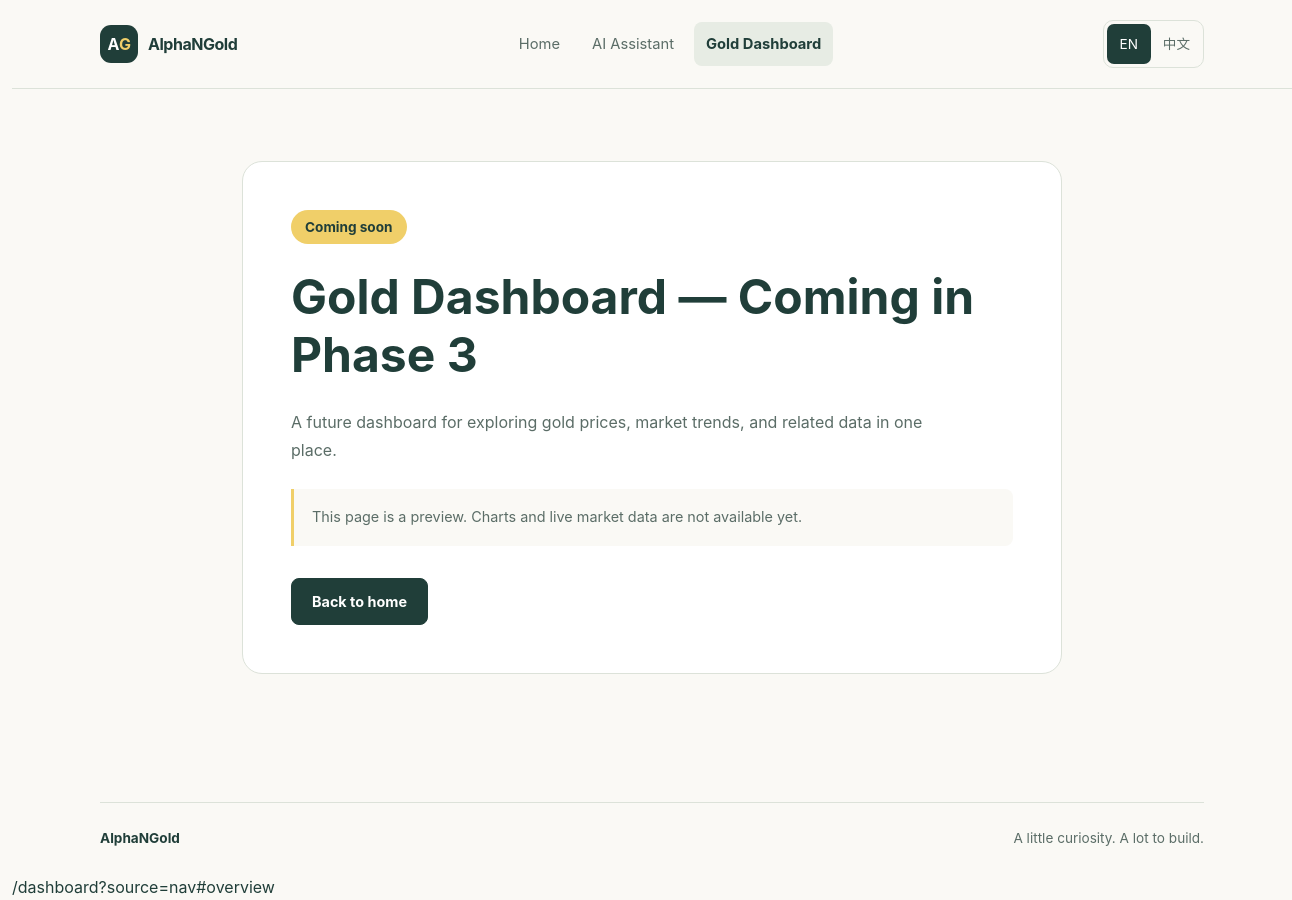
Test: App › translates /dashboard?source=nav#overview and keeps its route, query, and hash
Expected: the heading "Gold Dashboard — Coming in Phase 3" is shown, top-left (291, 268), bottom-right (1013, 384)
Step 1. Click the button with aria-label "简体中文" → click(1176, 44), box top-left (1153, 24), bottom-right (1200, 64)
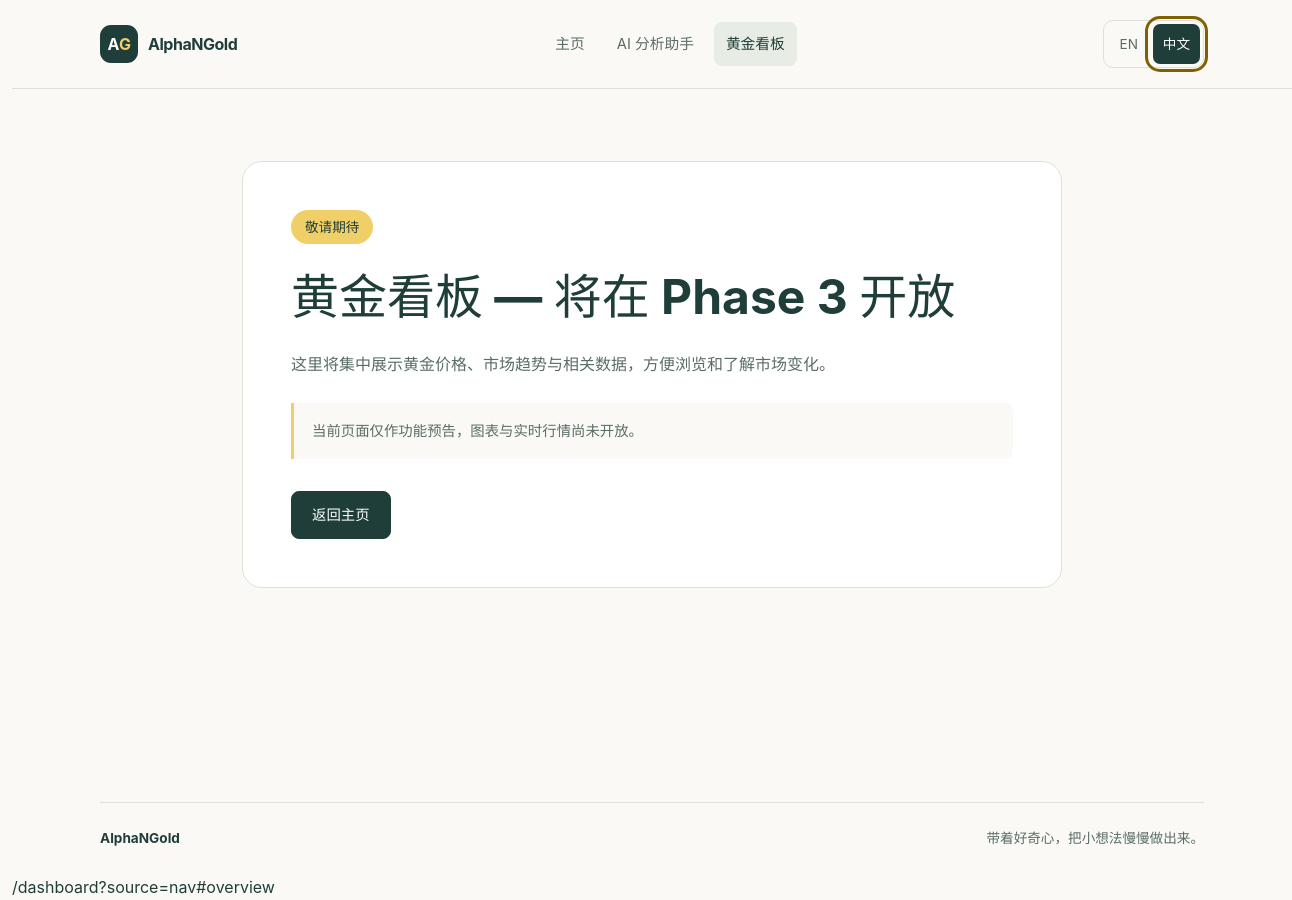
Expected: the text with test id "current-location" reads "/dashboard?source=nav#overview", top-left (12, 877), bottom-right (275, 897)
Expected: the heading "黄金看板 — 将在 Phase 3 开放" is shown, top-left (291, 268), bottom-right (1013, 326)
